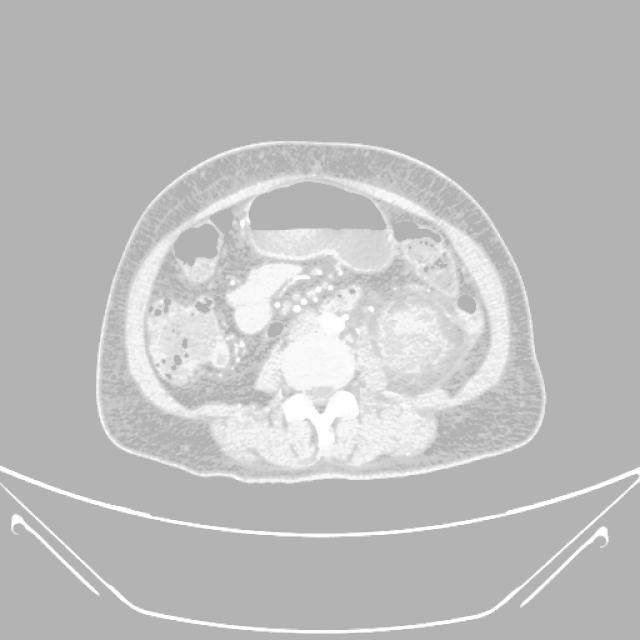TUMOR: (338, 243, 531, 396)
